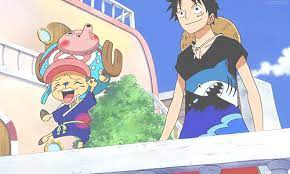chopper: (34, 37, 123, 106)
luffy: (167, 1, 223, 53)
